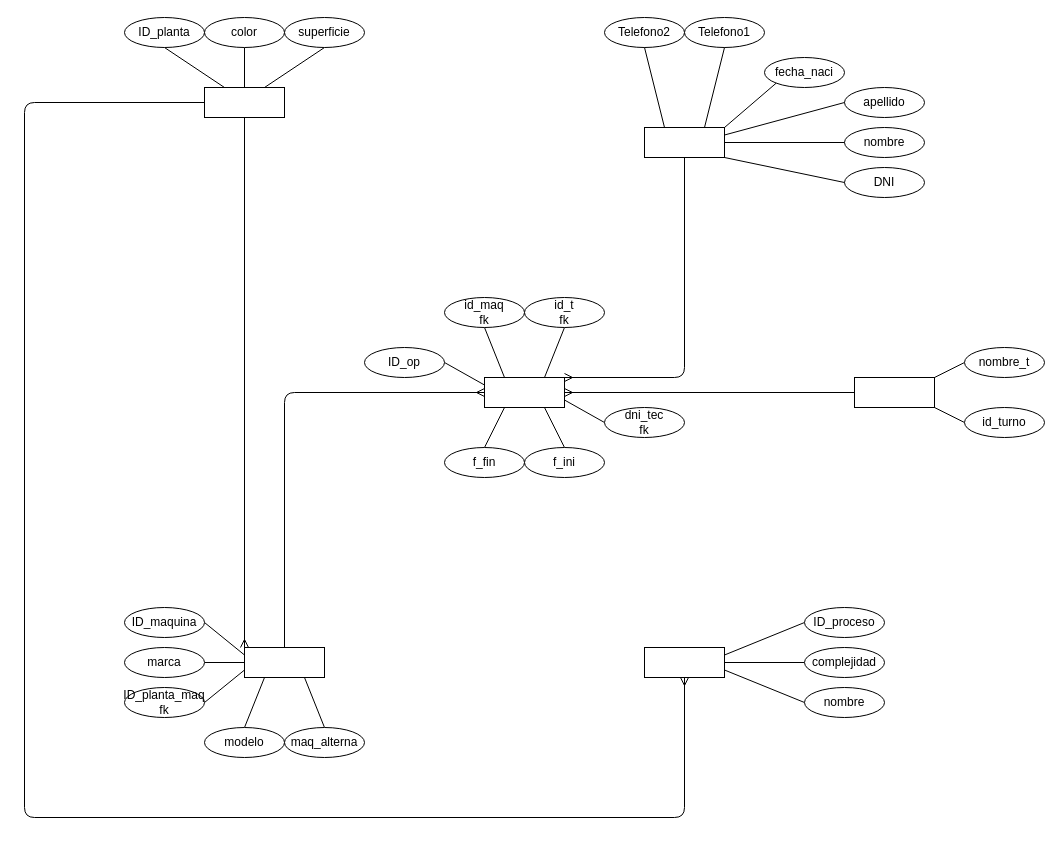
Some shapes in this 1062 by 843 pixel diagram are drawn without their labels. The shapes that lost their labels are listed below. From the top down, each one's centre as x and y in pixels, then its label:
the point at 244,102: PLANTA
the point at 684,142: TECNICO
the point at 524,392: OPERACION
the point at 894,392: TURNO
the point at 284,662: MAQUINA
the point at 684,662: PROCESOS
